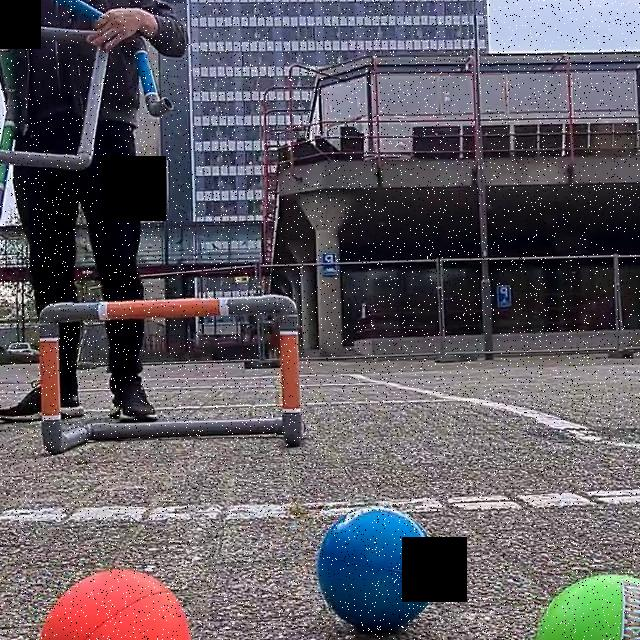ball: (309, 499, 449, 632), (40, 563, 198, 640)
